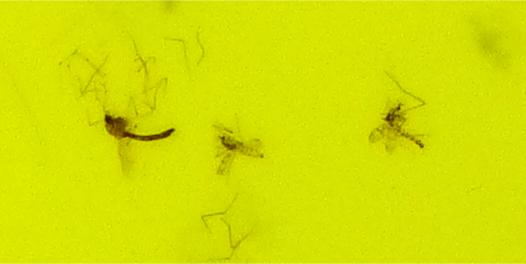Nematocera: (100, 109, 176, 147), (375, 100, 426, 150), (216, 128, 254, 164)
